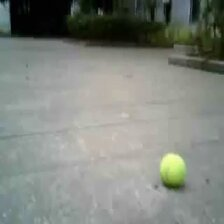tennis: (159, 154, 186, 186)
